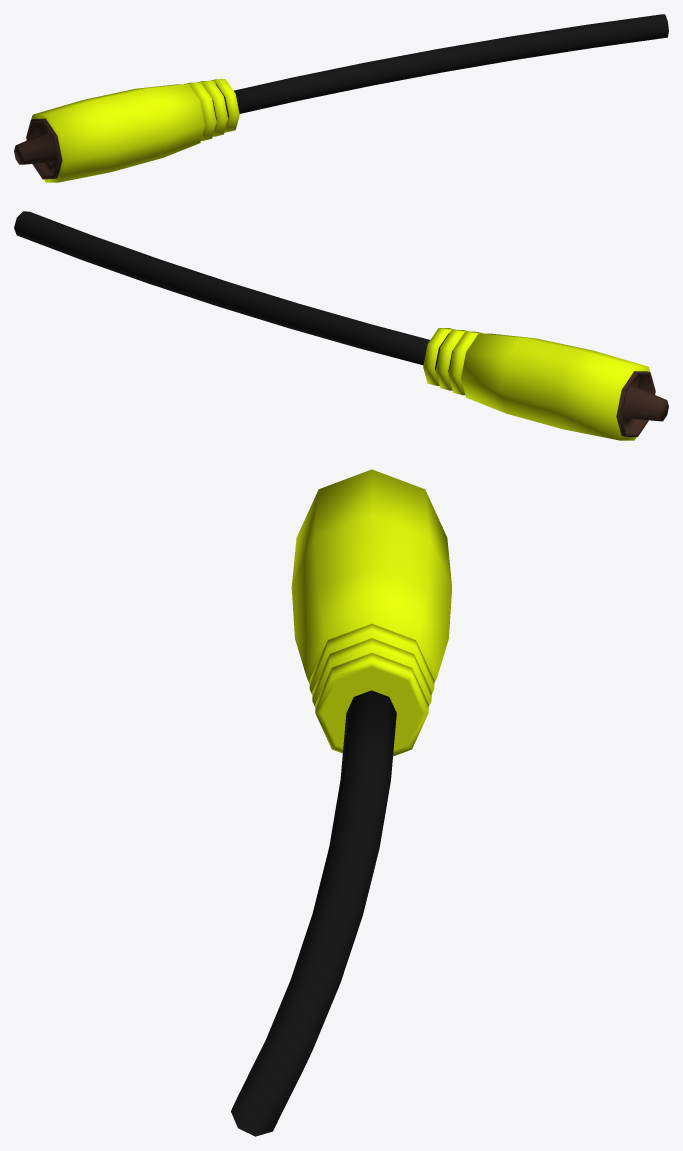
Rendered from Mesh_MtPanorama_RCA_Cable.FBX.
The picture shows the model from 3 angles, top to bottom: view 1: azimuth 30°, elevation 25°; view 2: azimuth 150°, elevation 25°; view 3: azimuth 270°, elevation 25°; orthographic projection. The views are drawn at different scales.
Parts seen in each view (by area): view 1: Mesh_MtPanorama_RCA_Cable; view 2: Mesh_MtPanorama_RCA_Cable; view 3: Mesh_MtPanorama_RCA_Cable.
Boxes of the visible parts, x1,y1,x2,y2 form: Mesh_MtPanorama_RCA_Cable: [14, 14, 668, 182]; Mesh_MtPanorama_RCA_Cable: [14, 211, 668, 440]; Mesh_MtPanorama_RCA_Cable: [231, 469, 452, 1136].
Size of what is drawn, in the model's own units: 1115 by 173 by 125.
